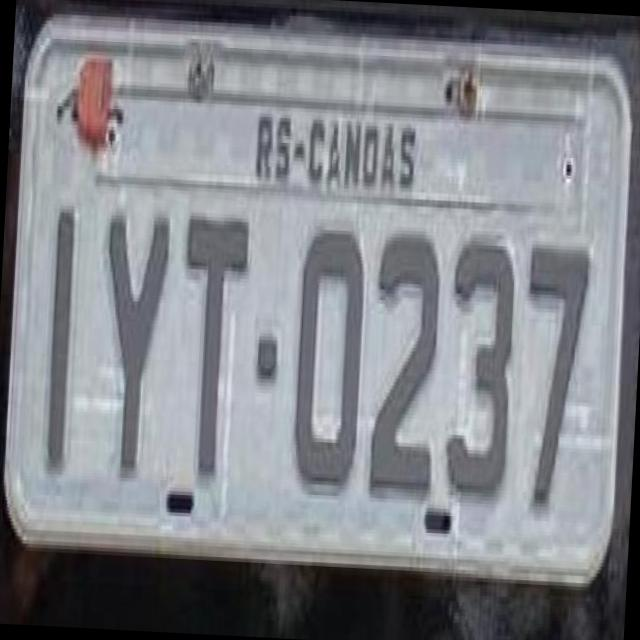0: (276, 210, 376, 502)
1: (8, 179, 92, 479)
2: (353, 214, 451, 508)
3: (436, 222, 530, 509)
7: (510, 229, 602, 516)
T: (162, 198, 258, 492)
Y: (80, 193, 182, 487)
